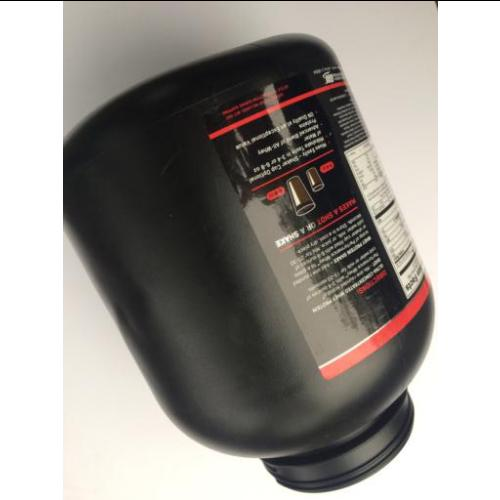plastic: (64, 35, 434, 493)
